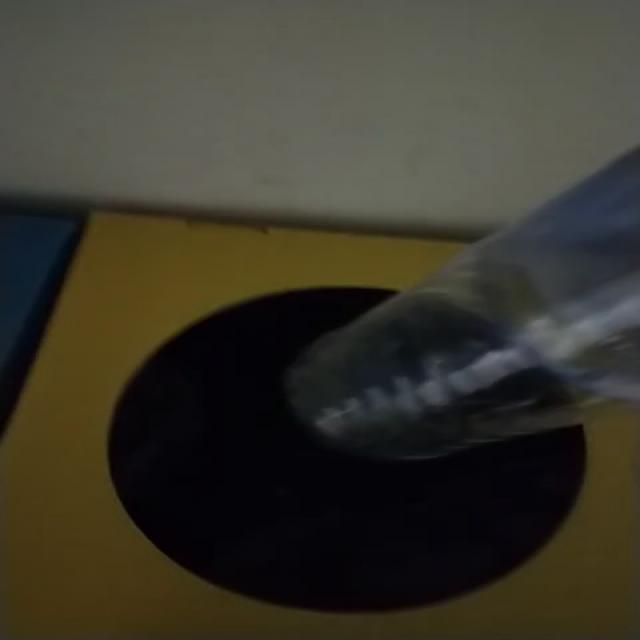plastic: (287, 149, 639, 459)
